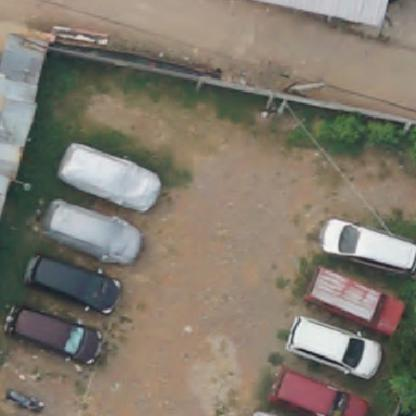Car: (39, 198, 144, 272), (60, 143, 166, 214), (7, 300, 110, 365), (286, 314, 384, 382), (313, 268, 409, 336), (27, 252, 122, 316), (273, 362, 375, 415), (319, 220, 415, 276)
Motorcycle: (0, 389, 51, 415)
